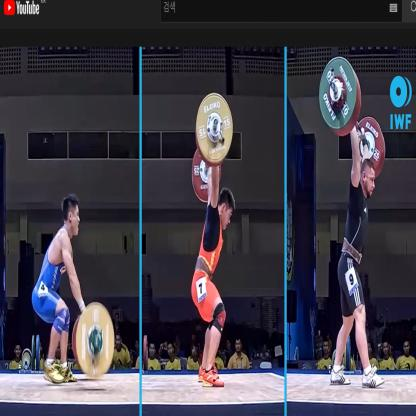Barbell: (315, 51, 364, 135), (72, 297, 117, 381), (192, 85, 235, 172)
